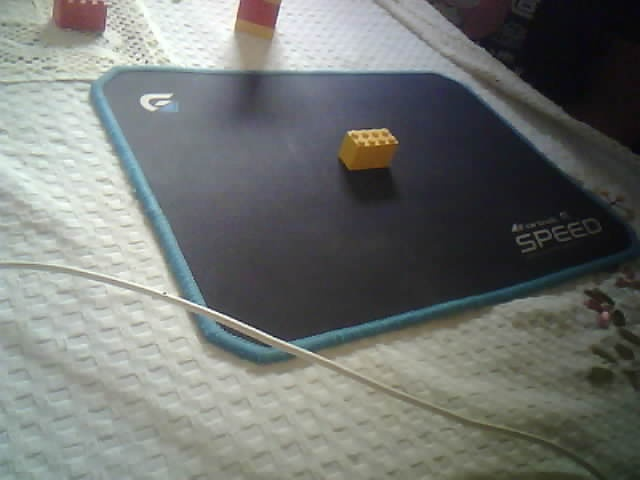lego: (337, 127, 399, 172), (233, 1, 283, 43), (52, 1, 107, 32)
